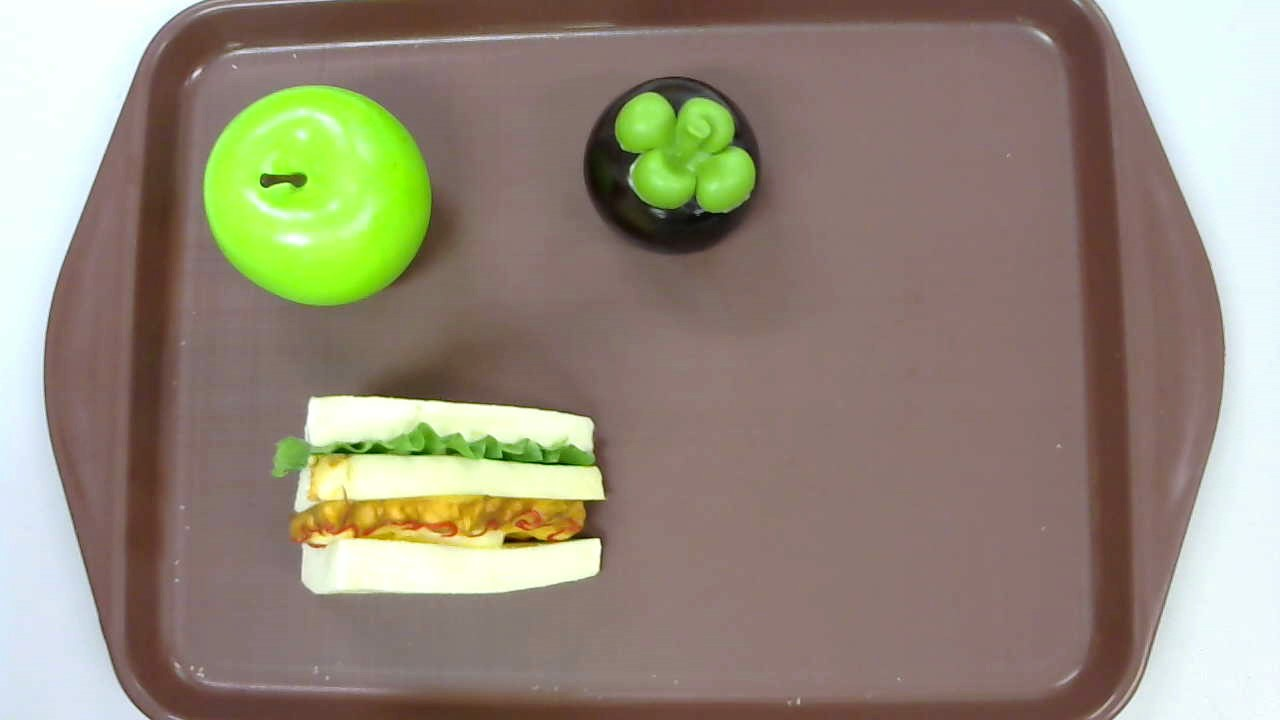green apple: (203, 84, 432, 310)
mangosteen: (583, 75, 761, 253)
sandwich: (269, 394, 610, 597)
